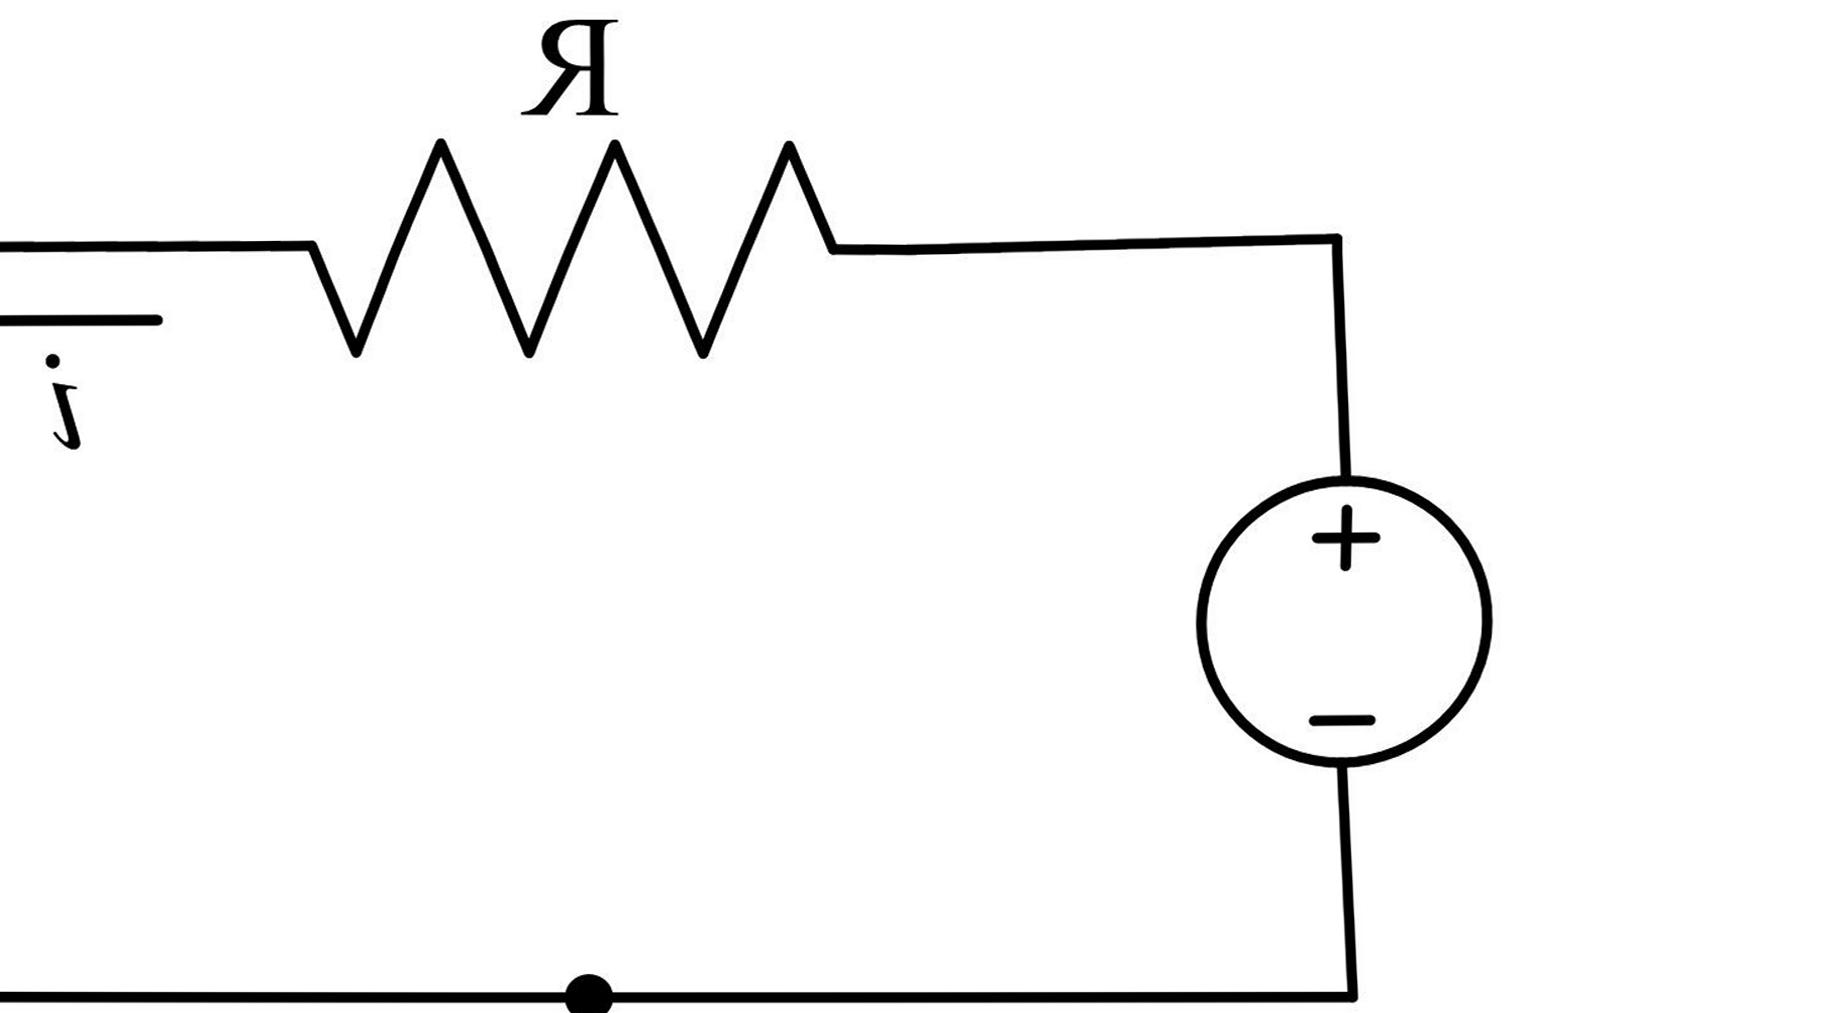Battery: (1114, 423, 1547, 821)
